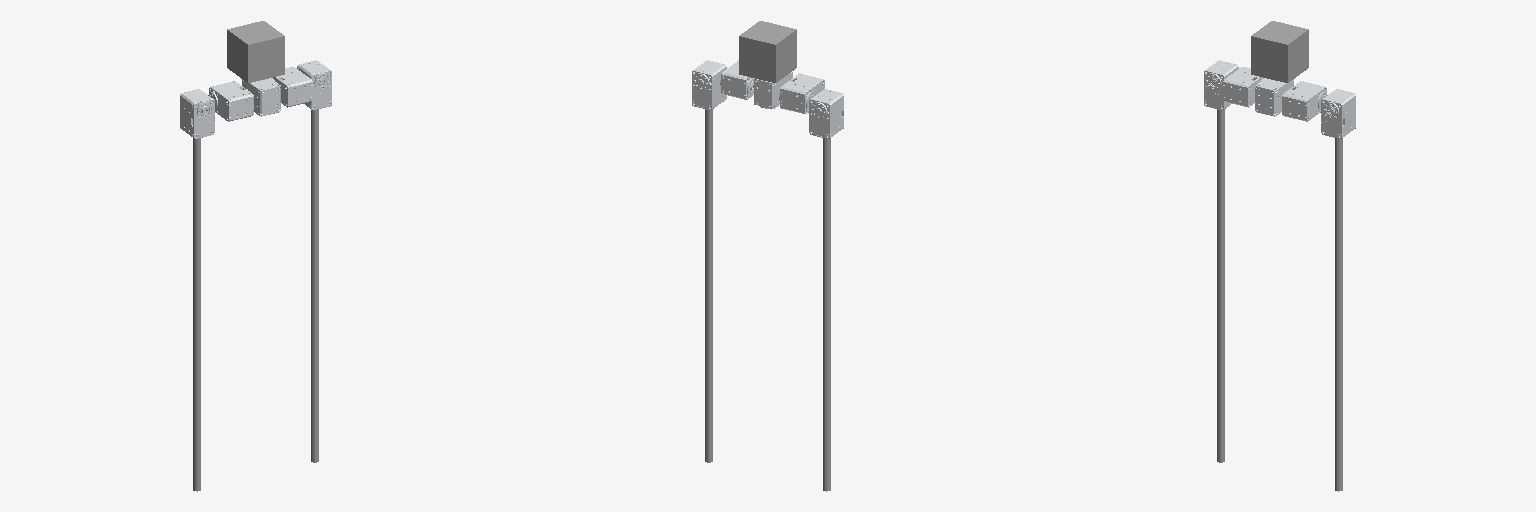
URDF robot description (chopstick_bot):
<?xml version='1.0' encoding='utf-8'?>
<robot name="chopstick_bot">
  <link name="world" />
  <joint name="world_to_base" type="fixed">
    <origin xyz="0.000000 0.000000 0.570000" rpy="0.000000 0.000000 0.000000" />
    <parent link="world" />
    <child link="base_motor_link" />
    </joint>
  <link name="base_motor_link">
    <visual>
      <origin xyz="0.000000 0.000000 0.000000" rpy="0.000000 0.000000 0.000000" />
      <geometry>
        <mesh filename="meshes/XL-430_new_coordinate_on_axis.STL" scale="0.001000 0.001000 0.001000" />
        </geometry>
      <material name="motor_mat">
        <color rgba="0.89804 0.91765 0.92941 1.0" />
        </material>
      </visual>
    <collision>
      <origin xyz="0.000000 -0.012000 0.000000" rpy="0.000000 0.000000 0.000000" />
      <geometry>
        <box size="0.028500 0.046500 0.034000" />
        </geometry>
      </collision>
    <inertial>
      <origin xyz="0.000000 -0.012000 0.000000" rpy="0.000000 0.000000 0.000000" />
      <mass value="0.065000" />
      <inertia ixx="0.000017973854" ixy="0" ixz="0" iyy="0.000010661354" iyz="0" izz="0.000016111875" />
      </inertial>
    </link>
  <link name="l_hip_pitch">
    <visual>
      <origin xyz="0.000000 0.000000 0.000000" rpy="0.000000 0.000000 0.000000" />
      <geometry>
        <mesh filename="meshes/XL-430_new_coordinate_on_axis.STL" scale="0.001000 0.001000 0.001000" />
        </geometry>
      <material name="motor_mat">
        <color rgba="0.89804 0.91765 0.92941 1.0" />
        </material>
      </visual>
    <collision>
      <origin xyz="0.000000 -0.012000 0.000000" rpy="0.000000 0.000000 0.000000" />
      <geometry>
        <box size="0.028500 0.046500 0.034000" />
        </geometry>
      </collision>
    <inertial>
      <origin xyz="0.000000 -0.012000 0.000000" rpy="0.000000 0.000000 0.000000" />
      <mass value="0.065000" />
      <inertia ixx="0.000017973854" ixy="0" ixz="0" iyy="0.000010661354" iyz="0" izz="0.000016111875" />
      </inertial>
    </link>
  <link name="l_hip_pitch_out">
    <inertial>
      <origin xyz="0.000000 0.000000 0.000000" rpy="0.000000 0.000000 0.000000" />
      <mass value="0.001000" />
      <inertia ixx="0.000000016667" ixy="0" ixz="0" iyy="0.000000016667" iyz="0" izz="0.000000016667" />
      </inertial>
    </link>
  <joint name="l_hip_pitch_mount_fixed" type="fixed">
    <origin xyz="-0.040000 0.000000 0.000000" rpy="0.000000 -1.570796 0.000000" />
    <parent link="base_motor_link" />
    <child link="l_hip_pitch" />
    </joint>
  <joint name="l_hip_pitch_joint" type="revolute">
    <origin xyz="0.000000 0.000000 0.000000" rpy="0.000000 0.000000 0.000000" />
    <parent link="l_hip_pitch" />
    <child link="l_hip_pitch_out" />
    <axis xyz="0.000000 0.000000 1.000000" />
    <limit lower="-3.14159" upper="3.14159" effort="5.0" velocity="8.0" />
    </joint>
  <link name="l_hip_roll">
    <visual>
      <origin xyz="0.000000 0.000000 0.000000" rpy="0.000000 0.000000 0.000000" />
      <geometry>
        <mesh filename="meshes/XL-430_new_coordinate_on_axis.STL" scale="0.001000 0.001000 0.001000" />
        </geometry>
      <material name="motor_mat">
        <color rgba="0.89804 0.91765 0.92941 1.0" />
        </material>
      </visual>
    <collision>
      <origin xyz="0.000000 -0.012000 0.000000" rpy="0.000000 0.000000 0.000000" />
      <geometry>
        <box size="0.028500 0.046500 0.034000" />
        </geometry>
      </collision>
    <inertial>
      <origin xyz="0.000000 -0.012000 0.000000" rpy="0.000000 0.000000 0.000000" />
      <mass value="0.065000" />
      <inertia ixx="0.000017973854" ixy="0" ixz="0" iyy="0.000010661354" iyz="0" izz="0.000016111875" />
      </inertial>
    </link>
  <link name="l_hip_roll_out">
    <inertial>
      <origin xyz="0.000000 0.000000 0.000000" rpy="0.000000 0.000000 0.000000" />
      <mass value="0.001000" />
      <inertia ixx="0.000000016667" ixy="0" ixz="0" iyy="0.000000016667" iyz="0" izz="0.000000016667" />
      </inertial>
    </link>
  <joint name="l_hip_roll_mount_fixed" type="fixed">
    <origin xyz="0.000000 0.000000 0.040000" rpy="0.000000 -1.570796 -1.570796" />
    <parent link="l_hip_pitch_out" />
    <child link="l_hip_roll" />
    </joint>
  <joint name="l_hip_roll_joint" type="revolute">
    <origin xyz="0.000000 0.000000 0.000000" rpy="0.000000 0.000000 0.000000" />
    <parent link="l_hip_roll" />
    <child link="l_hip_roll_out" />
    <axis xyz="0.000000 0.000000 1.000000" />
    <limit lower="-3.14159" upper="3.14159" effort="5.0" velocity="8.0" />
    </joint>
  <link name="l_end_effector">
    <visual>
      <origin xyz="0.000000 0.000000 0.000000" rpy="1.570796 0.000000 0.000000" />
      <geometry>
        <cylinder radius="0.005000" length="0.500000" />
        </geometry>
      <material name="cylinder_mat">
        <color rgba="0.7 0.7 0.7 1.0" />
        </material>
      </visual>
    <collision>
      <origin xyz="0.000000 -0.250000 0.000000" rpy="0.000000 0.000000 0.000000" />
      <geometry>
        <box size="0.020000 0.020000 0.020000" />
        </geometry>
      </collision>
    <inertial>
      <origin xyz="0.000000 0.000000 0.000000" rpy="0.000000 0.000000 0.000000" />
      <mass value="0.019635" />
      <inertia ixx="0.000409184262" ixy="0" ixz="0" iyy="0.000409184262" iyz="0" izz="0.000000245437" />
      </inertial>
    </link>
  <joint name="l_end_effector_fixed" type="fixed">
    <origin xyz="0.000000 -0.250000 0.000000" rpy="0.000000 0.000000 0.000000" />
    <parent link="l_hip_roll_out" />
    <child link="l_end_effector" />
    </joint>
  <link name="r_hip_pitch">
    <visual>
      <origin xyz="0.000000 0.000000 0.000000" rpy="0.000000 0.000000 0.000000" />
      <geometry>
        <mesh filename="meshes/XL-430_new_coordinate_on_axis.STL" scale="0.001000 0.001000 0.001000" />
        </geometry>
      <material name="motor_mat">
        <color rgba="0.89804 0.91765 0.92941 1.0" />
        </material>
      </visual>
    <collision>
      <origin xyz="0.000000 -0.012000 0.000000" rpy="0.000000 0.000000 0.000000" />
      <geometry>
        <box size="0.028500 0.046500 0.034000" />
        </geometry>
      </collision>
    <inertial>
      <origin xyz="0.000000 -0.012000 0.000000" rpy="0.000000 0.000000 0.000000" />
      <mass value="0.065000" />
      <inertia ixx="0.000017973854" ixy="0" ixz="0" iyy="0.000010661354" iyz="0" izz="0.000016111875" />
      </inertial>
    </link>
  <link name="r_hip_pitch_out">
    <inertial>
      <origin xyz="0.000000 0.000000 0.000000" rpy="0.000000 0.000000 0.000000" />
      <mass value="0.001000" />
      <inertia ixx="0.000000016667" ixy="0" ixz="0" iyy="0.000000016667" iyz="0" izz="0.000000016667" />
      </inertial>
    </link>
  <joint name="r_hip_pitch_mount_fixed" type="fixed">
    <origin xyz="0.040000 0.000000 0.000000" rpy="0.000000 1.570796 -0.000000" />
    <parent link="base_motor_link" />
    <child link="r_hip_pitch" />
    </joint>
  <joint name="r_hip_pitch_joint" type="revolute">
    <origin xyz="0.000000 0.000000 0.000000" rpy="0.000000 0.000000 0.000000" />
    <parent link="r_hip_pitch" />
    <child link="r_hip_pitch_out" />
    <axis xyz="0.000000 0.000000 1.000000" />
    <limit lower="-3.14159" upper="3.14159" effort="5.0" velocity="8.0" />
    </joint>
  <link name="r_hip_roll">
    <visual>
      <origin xyz="0.000000 0.000000 0.000000" rpy="0.000000 0.000000 0.000000" />
      <geometry>
        <mesh filename="meshes/XL-430_new_coordinate_on_axis.STL" scale="0.001000 0.001000 0.001000" />
        </geometry>
      <material name="motor_mat">
        <color rgba="0.89804 0.91765 0.92941 1.0" />
        </material>
      </visual>
    <collision>
      <origin xyz="0.000000 -0.012000 0.000000" rpy="0.000000 0.000000 0.000000" />
      <geometry>
        <box size="0.028500 0.046500 0.034000" />
        </geometry>
      </collision>
    <inertial>
      <origin xyz="0.000000 -0.012000 0.000000" rpy="0.000000 0.000000 0.000000" />
      <mass value="0.065000" />
      <inertia ixx="0.000017973854" ixy="0" ixz="0" iyy="0.000010661354" iyz="0" izz="0.000016111875" />
      </inertial>
    </link>
  <link name="r_hip_roll_out">
    <inertial>
      <origin xyz="0.000000 0.000000 0.000000" rpy="0.000000 0.000000 0.000000" />
      <mass value="0.001000" />
      <inertia ixx="0.000000016667" ixy="0" ixz="0" iyy="0.000000016667" iyz="0" izz="0.000000016667" />
      </inertial>
    </link>
  <joint name="r_hip_roll_mount_fixed" type="fixed">
    <origin xyz="-0.000000 0.000000 0.040000" rpy="0.000000 1.570796 1.570796" />
    <parent link="r_hip_pitch_out" />
    <child link="r_hip_roll" />
    </joint>
  <joint name="r_hip_roll_joint" type="revolute">
    <origin xyz="0.000000 0.000000 0.000000" rpy="0.000000 0.000000 0.000000" />
    <parent link="r_hip_roll" />
    <child link="r_hip_roll_out" />
    <axis xyz="0.000000 0.000000 1.000000" />
    <limit lower="-3.14159" upper="3.14159" effort="5.0" velocity="8.0" />
    </joint>
  <link name="r_end_effector">
    <visual>
      <origin xyz="0.000000 0.000000 0.000000" rpy="1.570796 0.000000 0.000000" />
      <geometry>
        <cylinder radius="0.005000" length="0.500000" />
        </geometry>
      <material name="cylinder_mat">
        <color rgba="0.7 0.7 0.7 1.0" />
        </material>
      </visual>
    <collision>
      <origin xyz="0.000000 -0.250000 0.000000" rpy="0.000000 0.000000 0.000000" />
      <geometry>
        <box size="0.020000 0.020000 0.020000" />
        </geometry>
      </collision>
    <inertial>
      <origin xyz="0.000000 0.000000 0.000000" rpy="0.000000 0.000000 0.000000" />
      <mass value="0.019635" />
      <inertia ixx="0.000409184262" ixy="0" ixz="0" iyy="0.000409184262" iyz="0" izz="0.000000245437" />
      </inertial>
    </link>
  <joint name="r_end_effector_fixed" type="fixed">
    <origin xyz="-0.000000 -0.250000 0.000000" rpy="0.000000 -0.000000 0.000000" />
    <parent link="r_hip_roll_out" />
    <child link="r_end_effector" />
    </joint>
  <link name="trunk_link">
    <visual>
      <origin xyz="0.000000 0.000000 0.000000" rpy="0.000000 0.000000 0.000000" />
      <geometry>
        <box size="0.050000 0.050000 0.050000" />
        </geometry>
      <material name="box_mat">
        <color rgba="0.7 0.7 0.7 1.0" />
        </material>
      </visual>
    <collision>
      <origin xyz="0.000000 0.000000 0.000000" rpy="0.000000 0.000000 0.000000" />
      <geometry>
        <box size="0.050000 0.050000 0.050000" />
        </geometry>
      </collision>
    <inertial>
      <origin xyz="0.000000 0.000000 0.000000" rpy="0.000000 0.000000 0.000000" />
      <mass value="0.200000" />
      <inertia ixx="0.000083333333" ixy="0" ixz="0" iyy="0.000083333333" iyz="0" izz="0.000083333333" />
      </inertial>
    </link>
  <joint name="base_to_trunk" type="revolute">
    <origin xyz="0.000000 0.000000 0.050000" rpy="0.000000 0.000000 0.000000" />
    <parent link="base_motor_link" />
    <child link="trunk_link" />
    <axis xyz="0.000000 0.000000 1.000000" />
    <limit lower="-3.14159" upper="3.14159" effort="5.0" velocity="8.0" />
    </joint>
  </robot>

--- What the picture shows (computed from the rendered views, not written in the file) ---
Views: 3 orthographic renders of the robot side by side, from view 1: azimuth 30°, elevation 25°; view 2: azimuth 150°, elevation 25°; view 3: azimuth 330°, elevation 25°.
Model chopstick_bot with 13 links and 12 joints (5 revolute, 7 fixed), rooted at world, posed every joint at zero.
Links seen in each view (by area): view 1: trunk_link, l_end_effector, r_end_effector, l_hip_roll, l_hip_pitch, r_hip_pitch, r_hip_roll, base_motor_link; view 2: trunk_link, l_end_effector, r_end_effector, l_hip_roll, r_hip_roll, l_hip_pitch, r_hip_pitch, base_motor_link; view 3: trunk_link, l_end_effector, r_end_effector, r_hip_roll, r_hip_pitch, l_hip_pitch, l_hip_roll, base_motor_link.
Boxes of the visible links, x1,y1,x2,y2 form: trunk_link: (227, 21, 284, 82); l_end_effector: (193, 138, 200, 491); r_end_effector: (311, 109, 318, 462); l_hip_roll: (180, 89, 214, 138); l_hip_pitch: (208, 81, 253, 121); r_hip_pitch: (271, 67, 312, 107); r_hip_roll: (297, 60, 331, 110); base_motor_link: (242, 78, 280, 116); trunk_link: (739, 21, 796, 82); l_end_effector: (823, 138, 830, 491); r_end_effector: (705, 109, 712, 462); l_hip_roll: (809, 89, 843, 138); r_hip_roll: (692, 60, 726, 110); l_hip_pitch: (779, 73, 824, 113); r_hip_pitch: (720, 60, 753, 99); base_motor_link: (754, 72, 792, 108); trunk_link: (1251, 21, 1308, 82); l_end_effector: (1217, 109, 1224, 462); r_end_effector: (1335, 138, 1342, 491); r_hip_roll: (1321, 89, 1355, 138); r_hip_pitch: (1282, 81, 1327, 121); l_hip_pitch: (1223, 67, 1264, 107); l_hip_roll: (1204, 60, 1238, 110); base_motor_link: (1255, 78, 1293, 116).
Bounding box of the posed robot: 0.1885 × 0.0602 × 0.575 m (x, y, z).
Meshes: 1 distinct files referenced, 5 mesh visuals loaded (1 binary STL).
